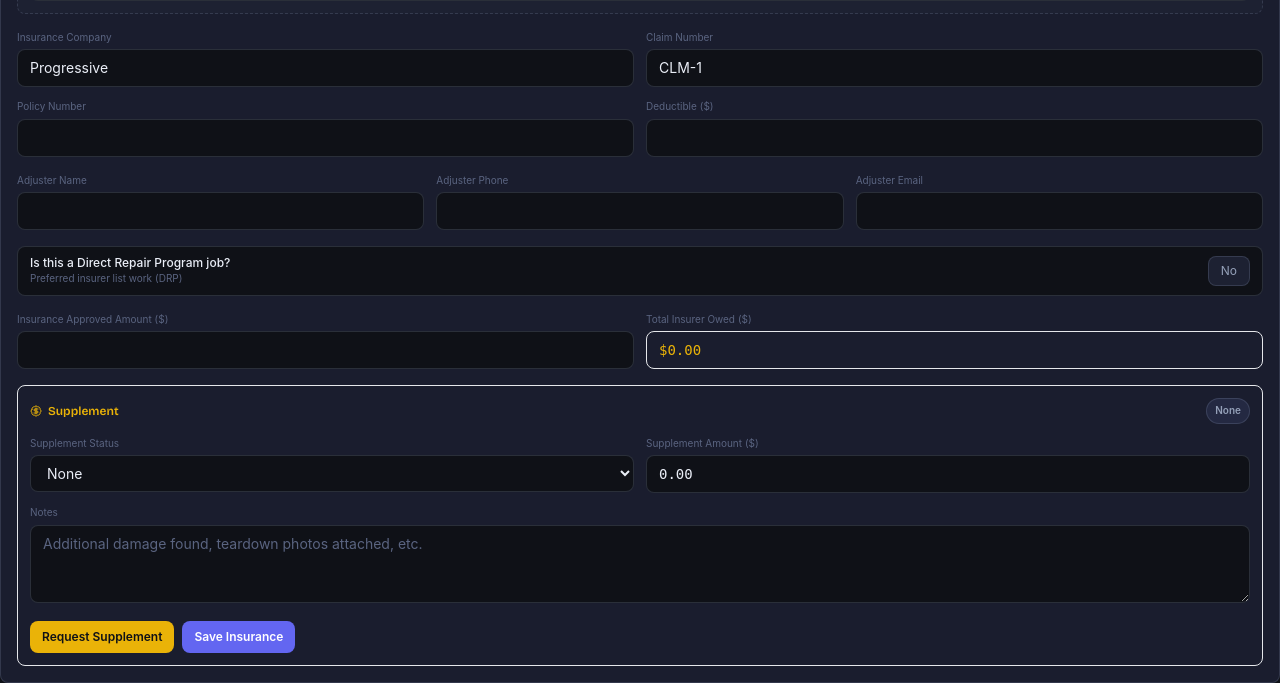
InsurancePanel OCR import › validates supplement amount before requesting a supplement
(page scrolled)
What coordinates should you click on to do the following:
click the button "Request Supplement"
I would click on:
 (102, 637)
Its box is [30,621,174,653].
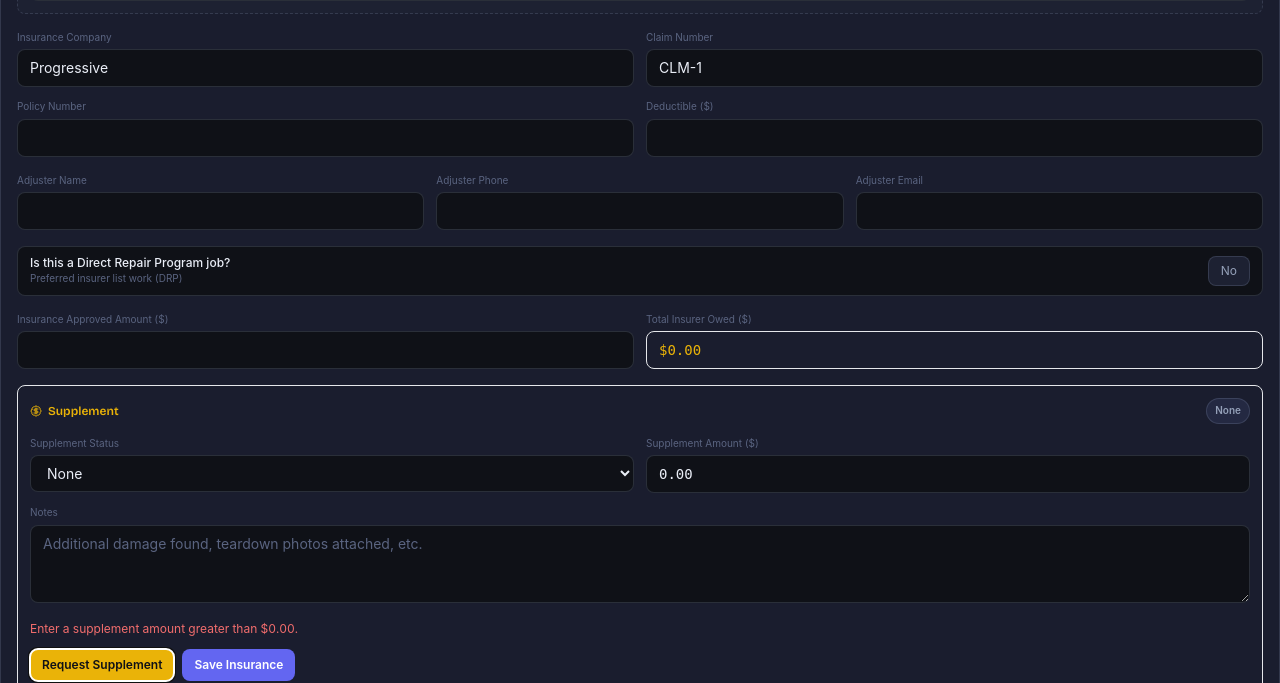
Expected: the message reads "Enter a supplement amount greater than $0.00.", [30,621,298,636]
